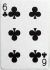six: (1, 1, 49, 69)
